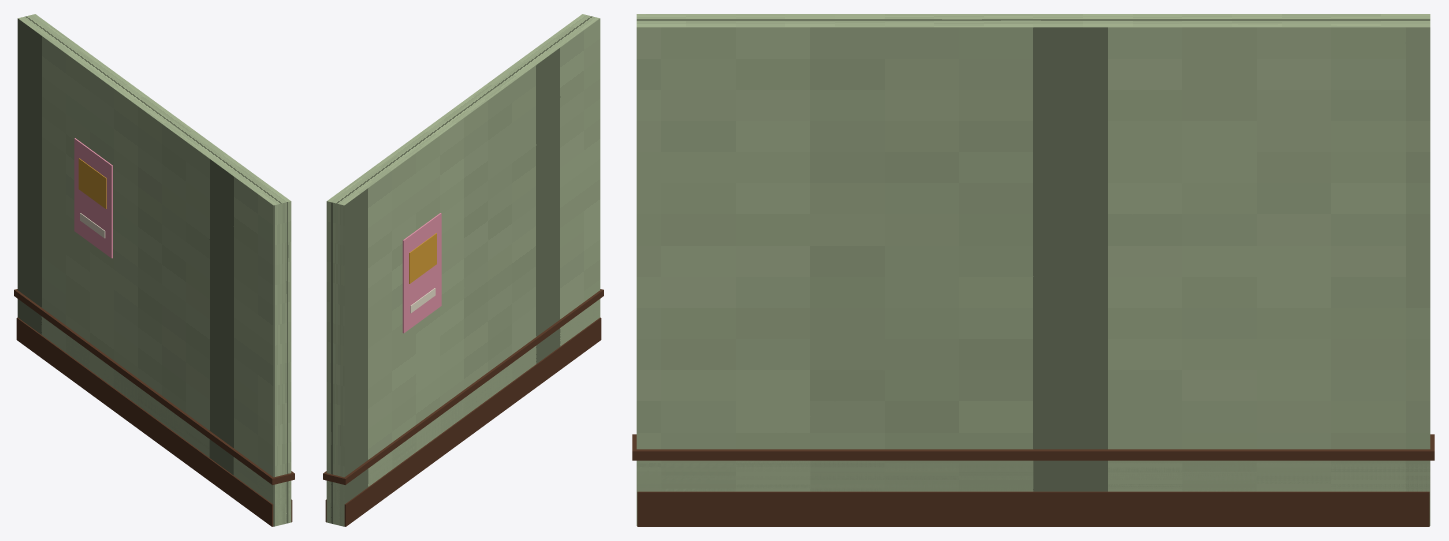
File: back1.glb
The picture shows the model from 3 angles, left to right: view 1: azimuth 30°, elevation 25°; view 2: azimuth 150°, elevation 25°; view 3: azimuth 270°, elevation 25°; orthographic projection. The views are drawn at different scales.
Visible parts, largest first — view 1: Box1, Box2, Box6, Box3, Box7, Box4; view 2: Box1, Box2, Box3, Box7, Box6, Box4; view 3: Box1, Box2, Box6, Box7.
Boxes of the visible parts, x1=… form: Box1: x1=17, y1=14, x2=291, y2=526; Box2: x1=16, y1=317, x2=292, y2=526; Box6: x1=19, y1=302, x2=291, y2=526; Box3: x1=74, y1=138, x2=112, y2=258; Box7: x1=14, y1=289, x2=294, y2=484; Box4: x1=78, y1=158, x2=106, y2=208; Box1: x1=326, y1=14, x2=600, y2=526; Box2: x1=325, y1=317, x2=601, y2=526; Box3: x1=402, y1=213, x2=441, y2=333; Box7: x1=323, y1=289, x2=603, y2=484; Box6: x1=326, y1=304, x2=598, y2=526; Box4: x1=409, y1=233, x2=436, y2=283; Box1: x1=636, y1=14, x2=1430, y2=525; Box2: x1=637, y1=491, x2=1429, y2=526; Box6: x1=636, y1=460, x2=1430, y2=524; Box7: x1=632, y1=434, x2=1434, y2=460.
Size of the model in its own units: 0.19 by 2.6 by 3.79.
Materials: 5 (1 with a texture image).
